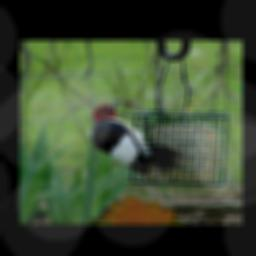Woodpecker: (92, 98, 185, 175)
